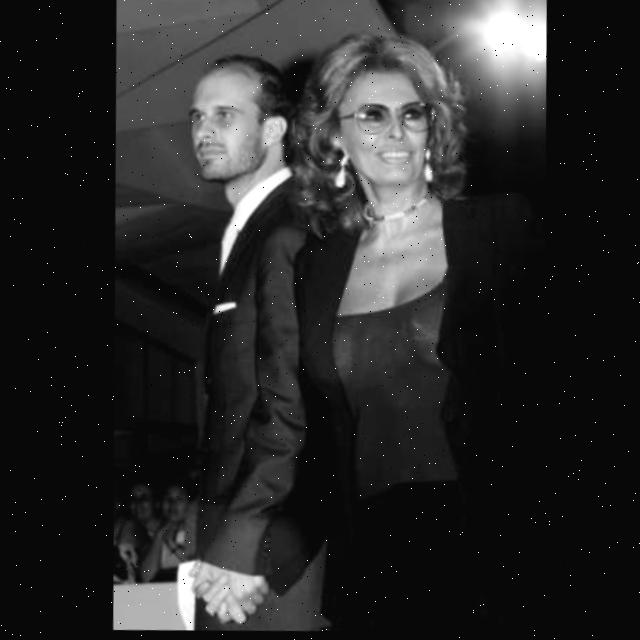face: (329, 89, 442, 203), (184, 66, 295, 178)
